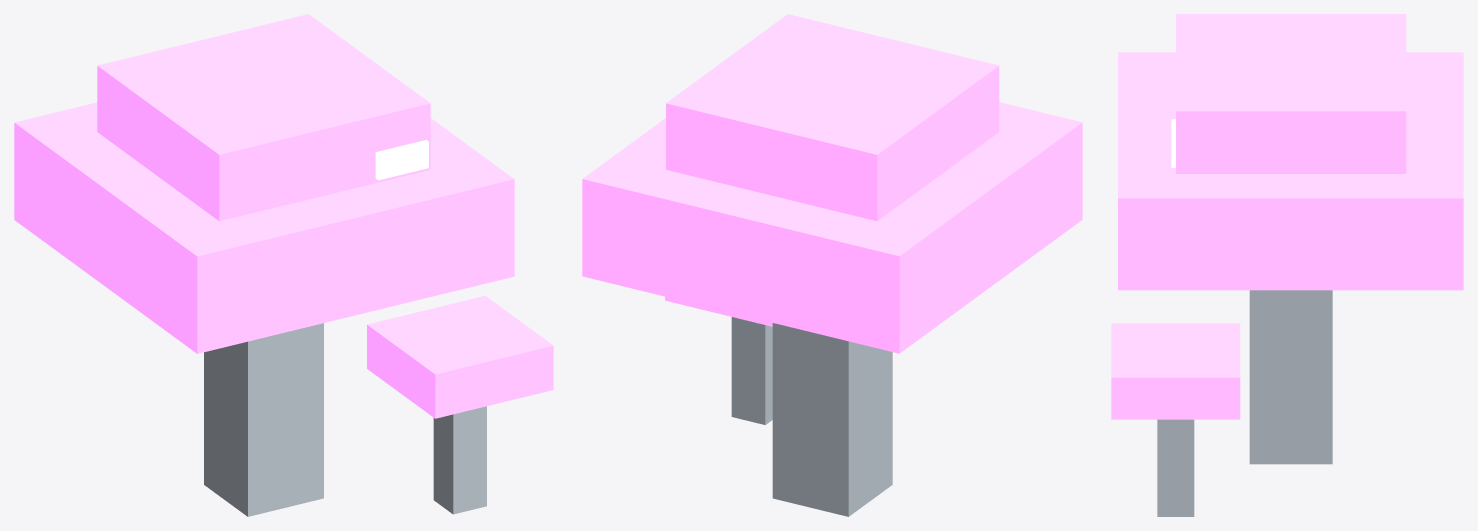
The model's file is dba-glow-mushroom-pink.glb.
3 views of the same model, side by side, from view 1: azimuth 30°, elevation 25°; view 2: azimuth 150°, elevation 25°; view 3: azimuth 270°, elevation 25° (orthographic). The views are drawn at different scales.
Visible parts, largest first — view 1: box-prop; view 2: box-prop; view 3: box-prop.
Part boxes in pixels (left/top/right/bottom): box-prop: left=14, top=14, right=553, bottom=516; box-prop: left=582, top=14, right=1082, bottom=516; box-prop: left=1111, top=14, right=1463, bottom=516.
Size of the model in its own units: 0.751 by 0.828 by 0.688.
